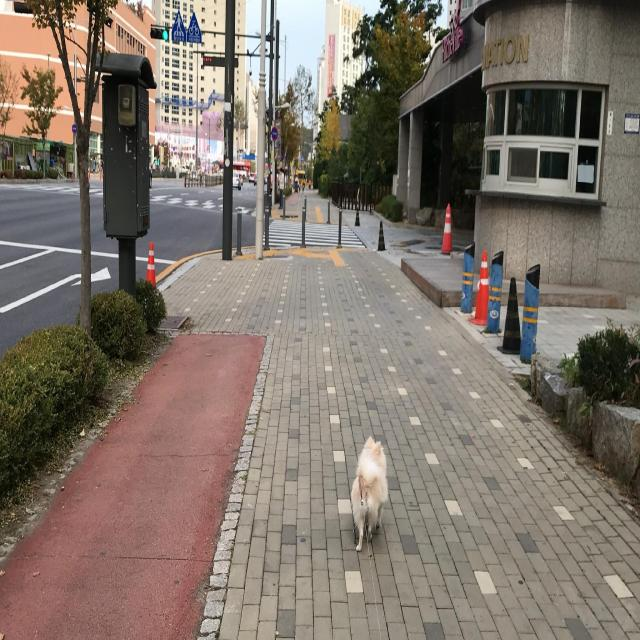횡단보도: (263, 219, 365, 249), (146, 197, 264, 210)
